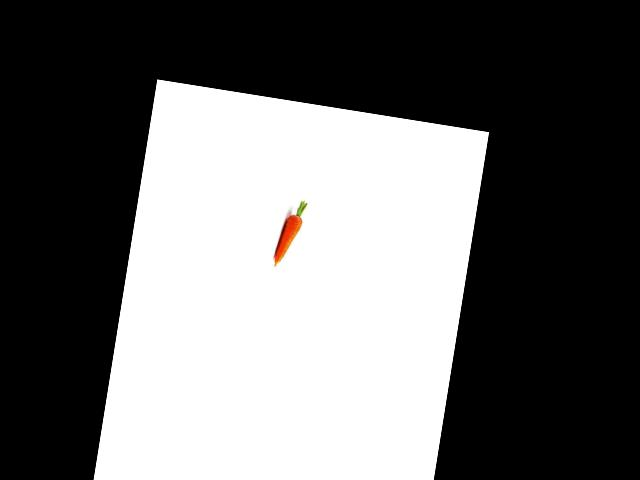carrot: (267, 206, 310, 272)
